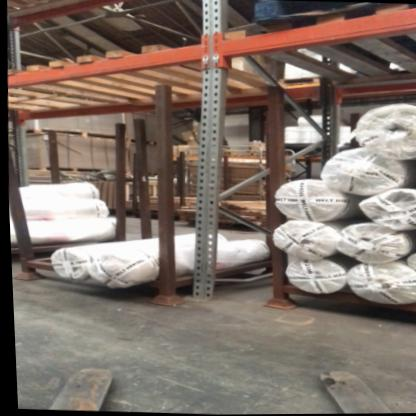vertical_damage: (189, 275, 224, 312)
